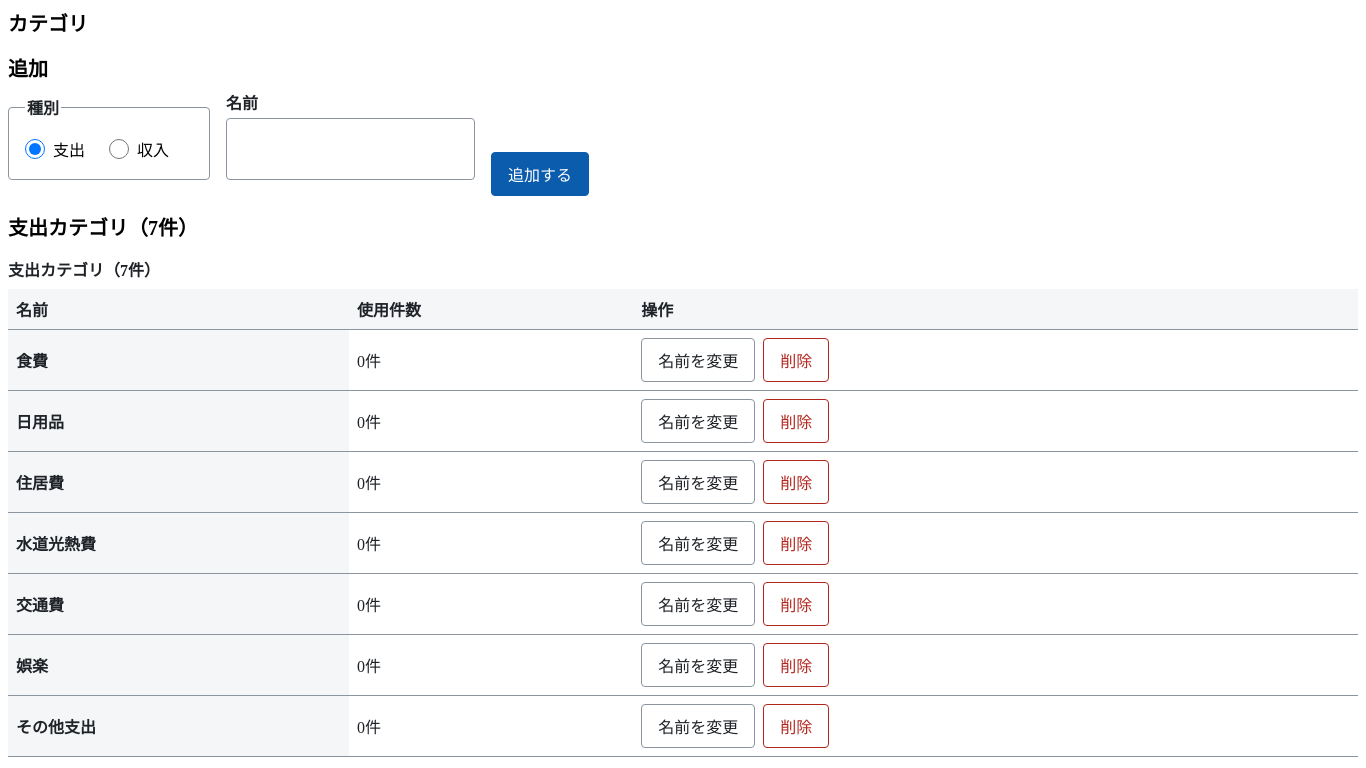
Test: カテゴリの削除 › 予算がある場合は D2 に予算の件数を出し、確定すると消した予算の件数を知らせる（Q1 = A）
Click the button with aria-label "娯楽を削除" at (796, 665), box [763,643,829,687]
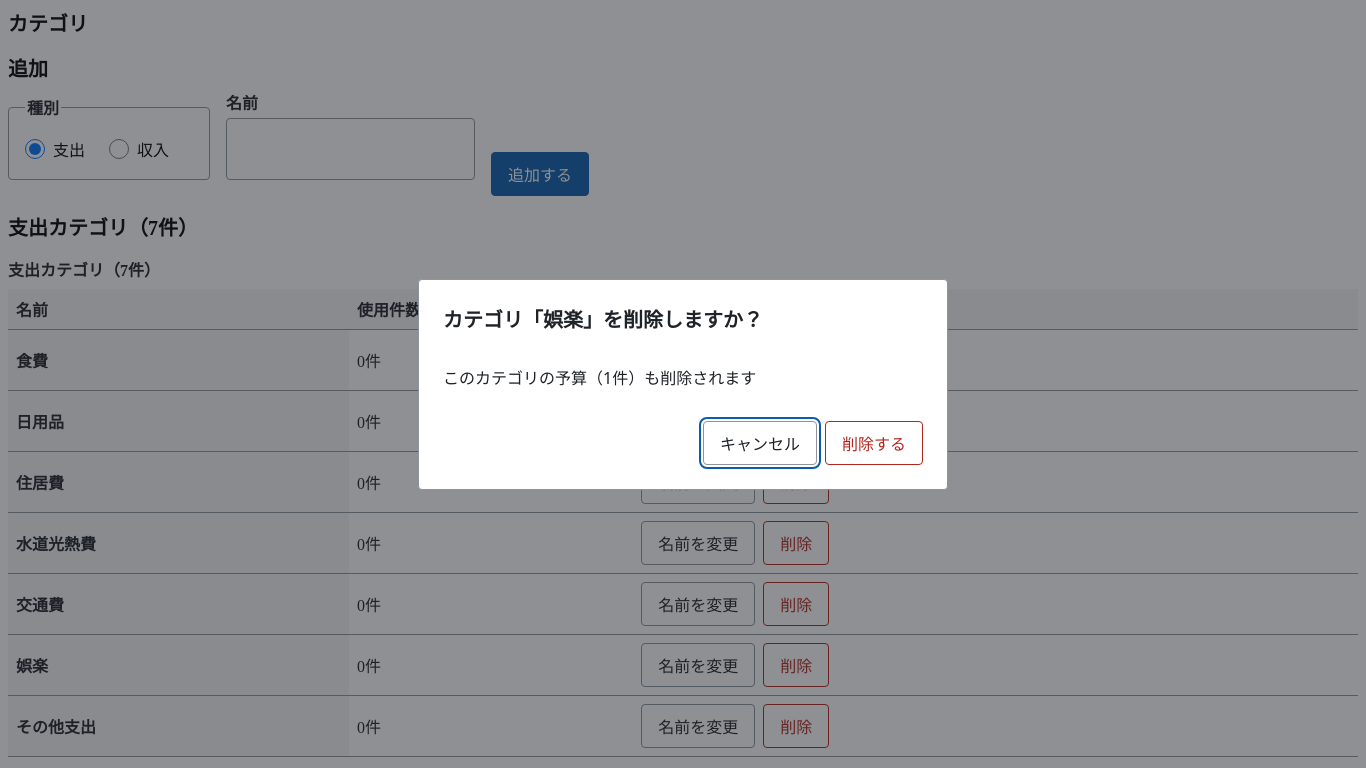
Expected: the text "このカテゴリの予算（1件）も削除されます" is shown, [443,366,756,388]
Click the button "削除する" at (874, 442), box [825,420,923,464]
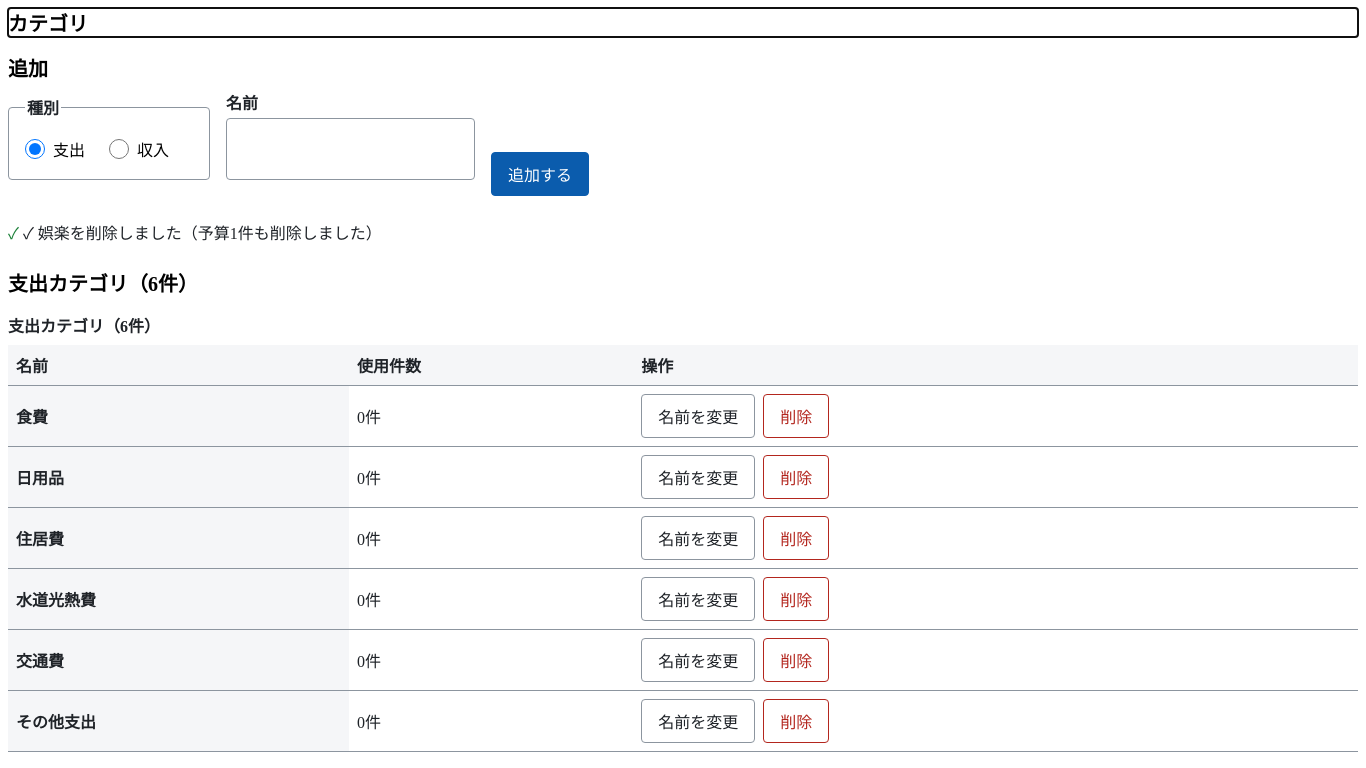
Expected: the text "✓ 娯楽を削除しました（予算1件も削除しました）" is shown, [23,225,382,242]
Expected: the table "支出カテゴリ（6件）" is shown, [8,305,1358,752]
